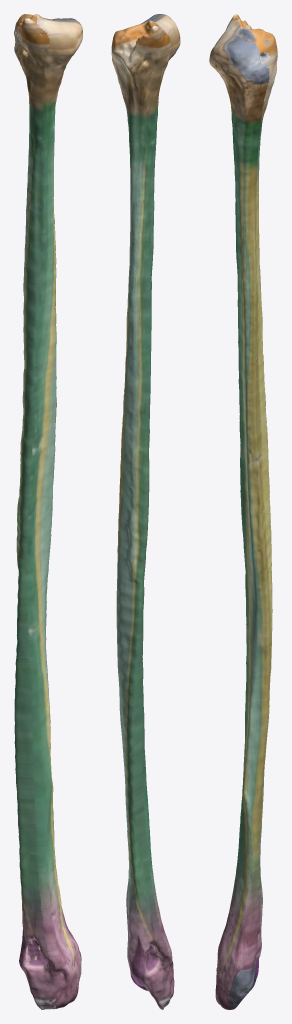
File: kosc-strzalkowa.glb
3 views of the same model, side by side, from view 1: azimuth 90°, elevation 25°; view 2: azimuth 150°, elevation 25°; view 3: azimuth 330°, elevation 25° (orthographic).
Size of the model in its own units: 0.0191 by 0.3599 by 0.0227.
2 materials, 1 textured.
